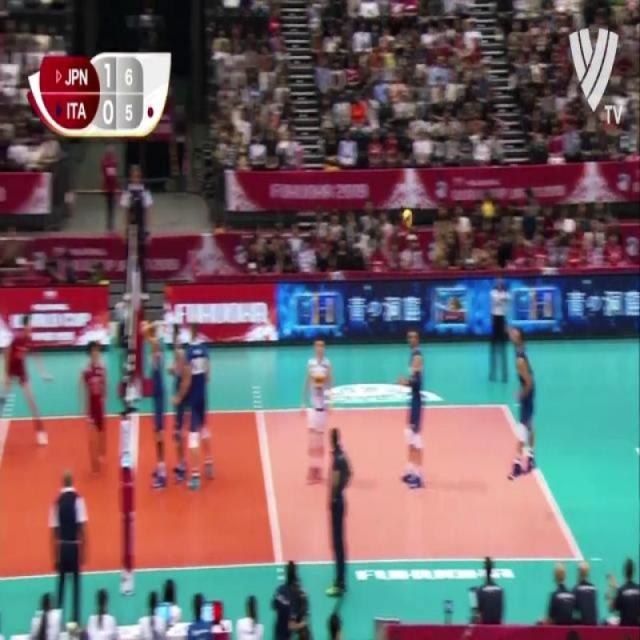volleyball: (481, 202, 494, 218)
